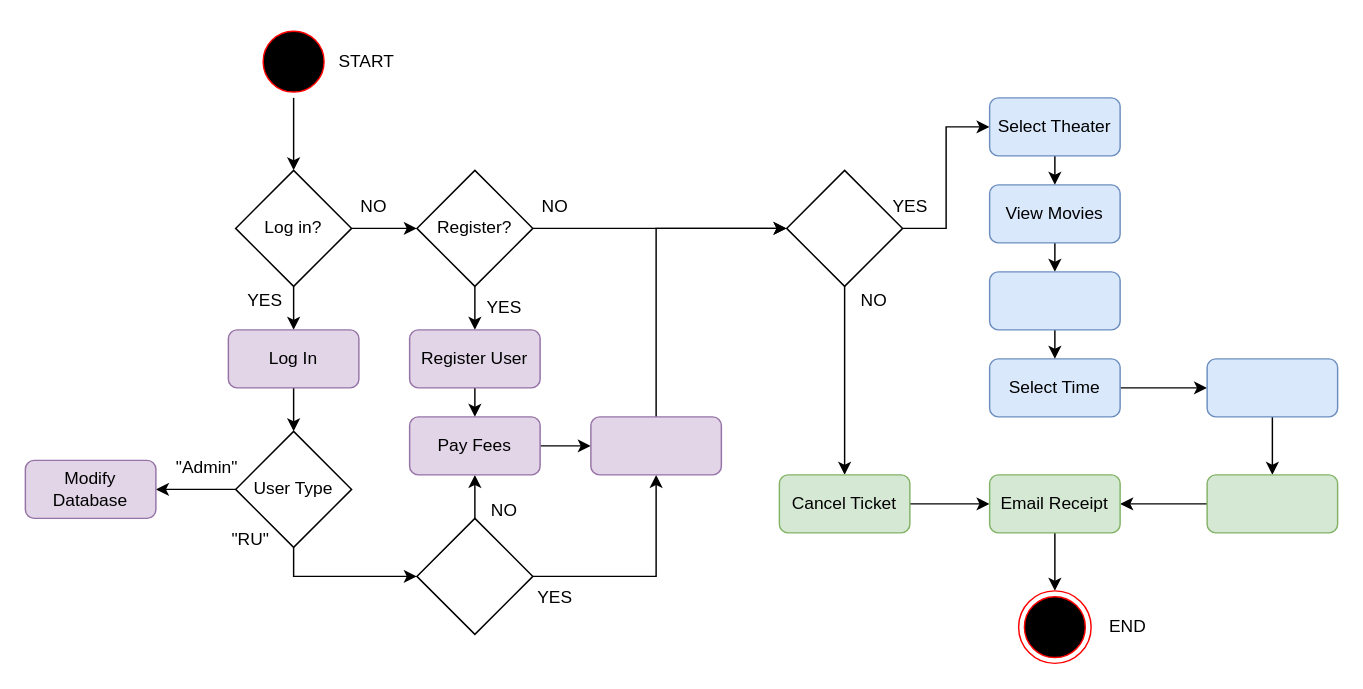
This 1363x689 diagram has some shape labels left out. Each missing label, with the centre of its shape:
"Buying?" goes at [844,227].
"Paid Fees?" goes at [474,575].
"Purchase Ticket" goes at [1272,503].
"Select Movie" goes at [1054,300].
"View News" goes at [655,445].
"View Seats" goes at [1272,387].
